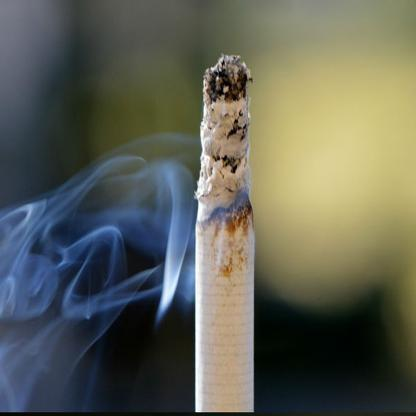trash: (196, 54, 255, 416)
